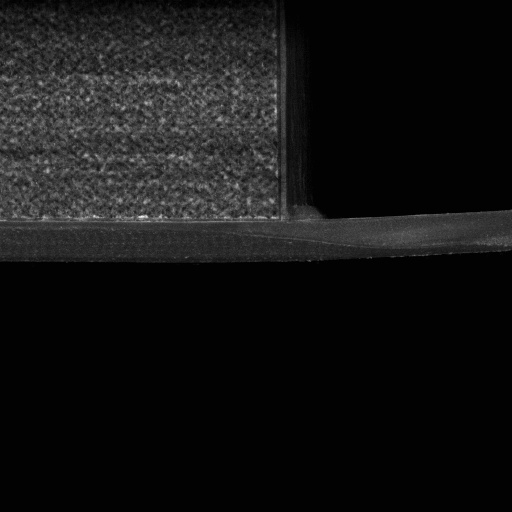changdai: (279, 208, 511, 263)
